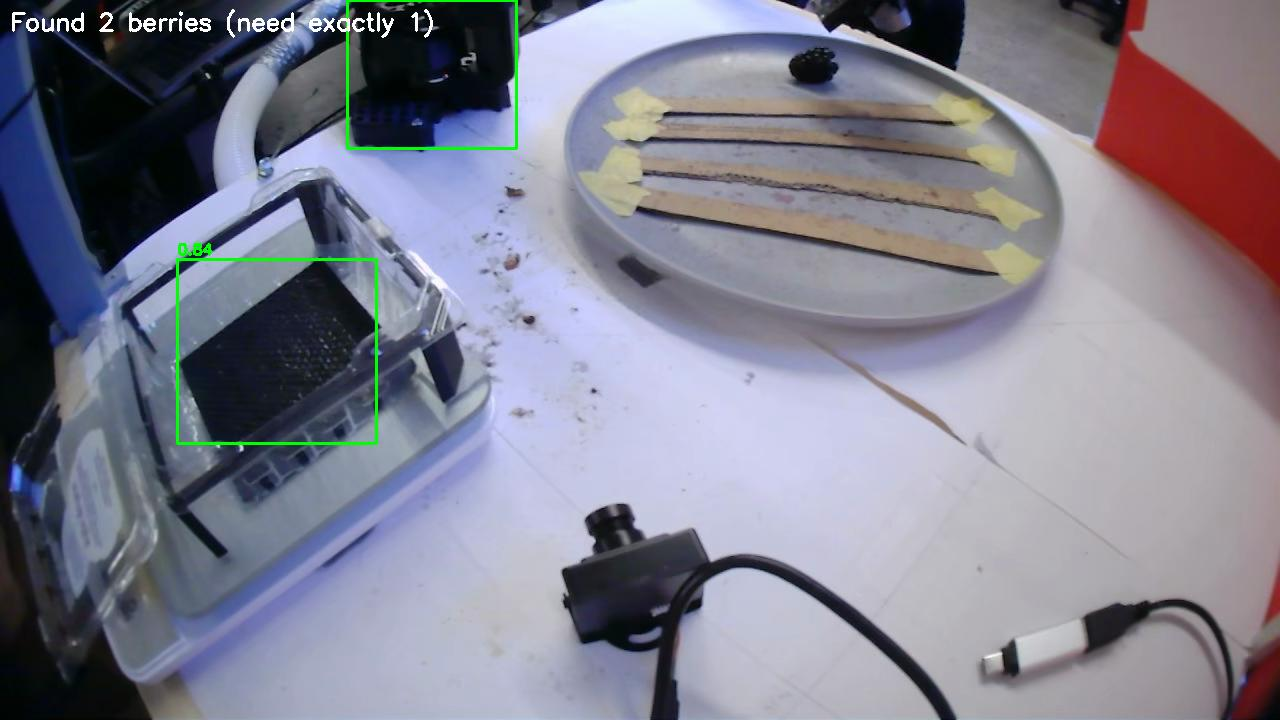berry: (789, 47, 838, 83)
